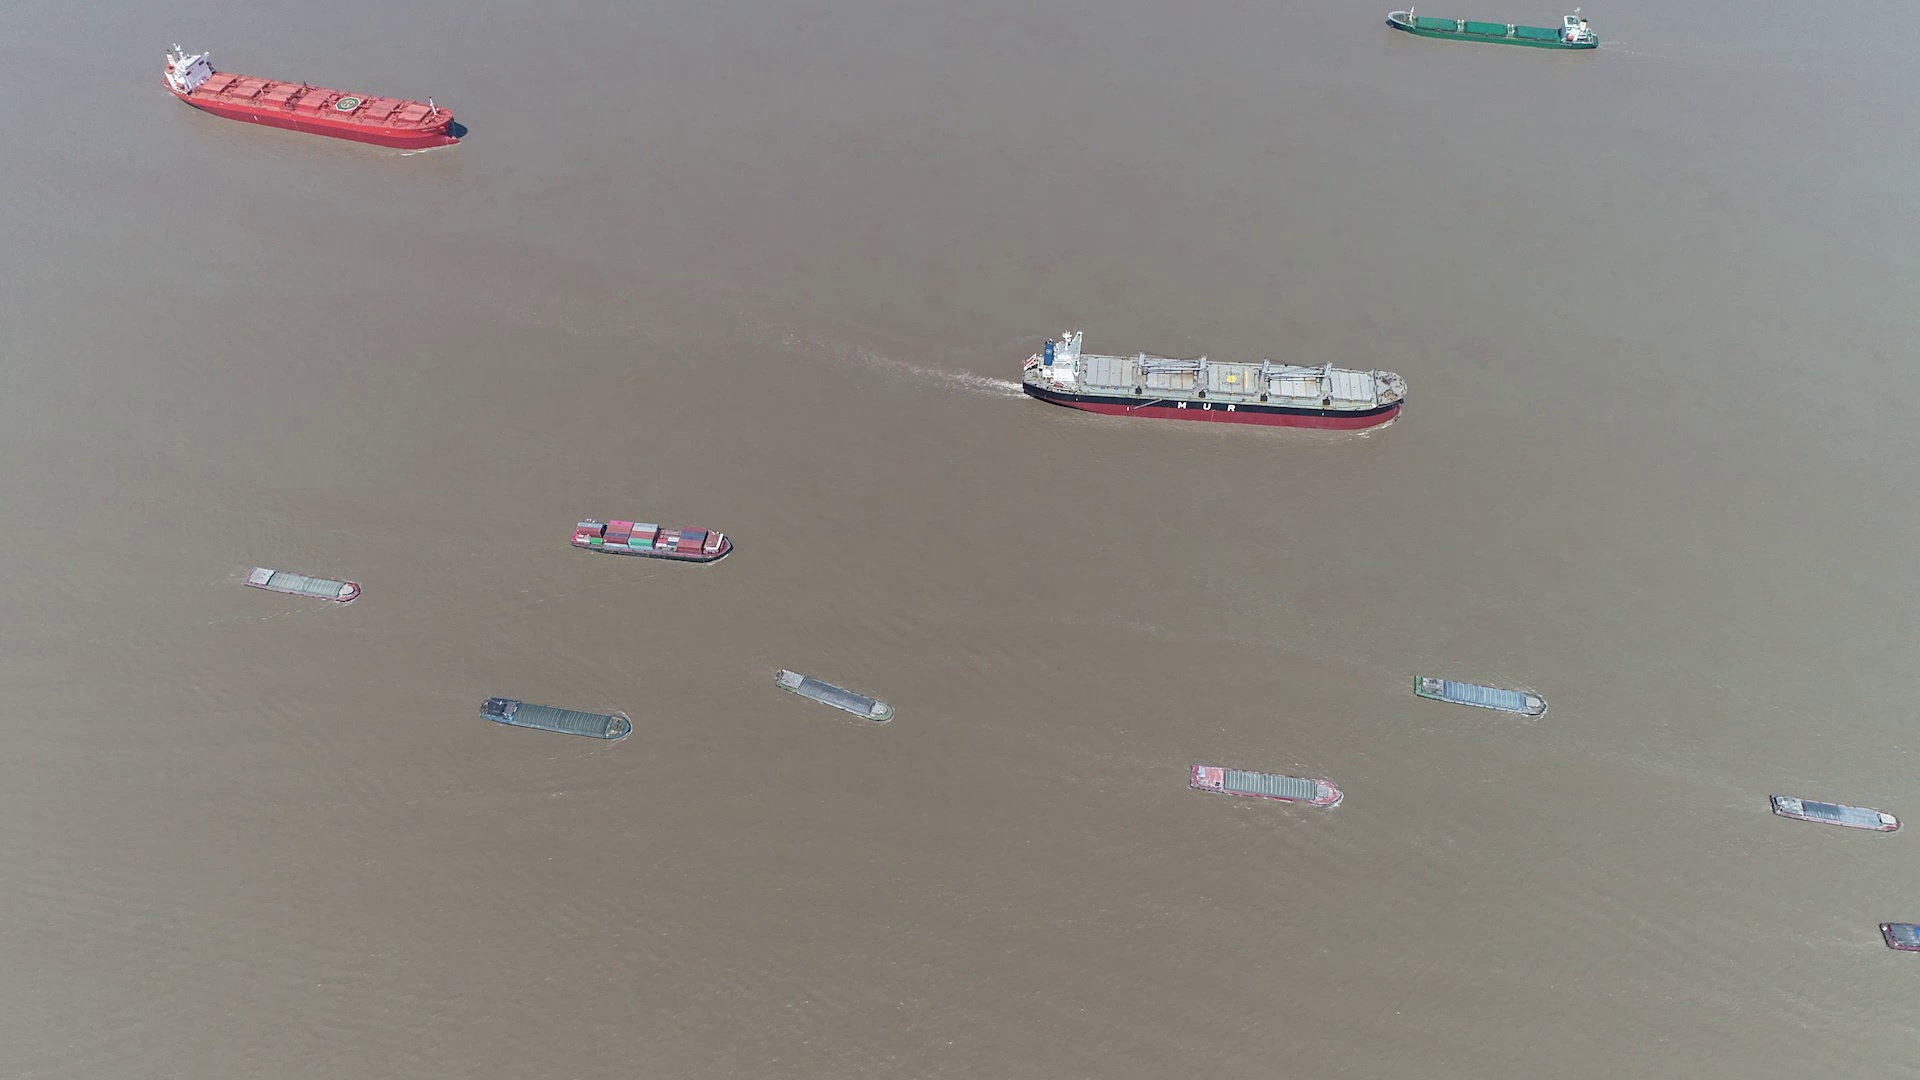ship: (1021, 334, 1408, 433), (160, 44, 464, 148), (1386, 12, 1600, 51), (571, 520, 735, 563), (1189, 765, 1345, 808), (775, 667, 895, 723), (483, 698, 633, 741), (1412, 675, 1549, 717), (1770, 794, 1899, 833), (245, 566, 361, 604), (1880, 922, 1919, 952)
